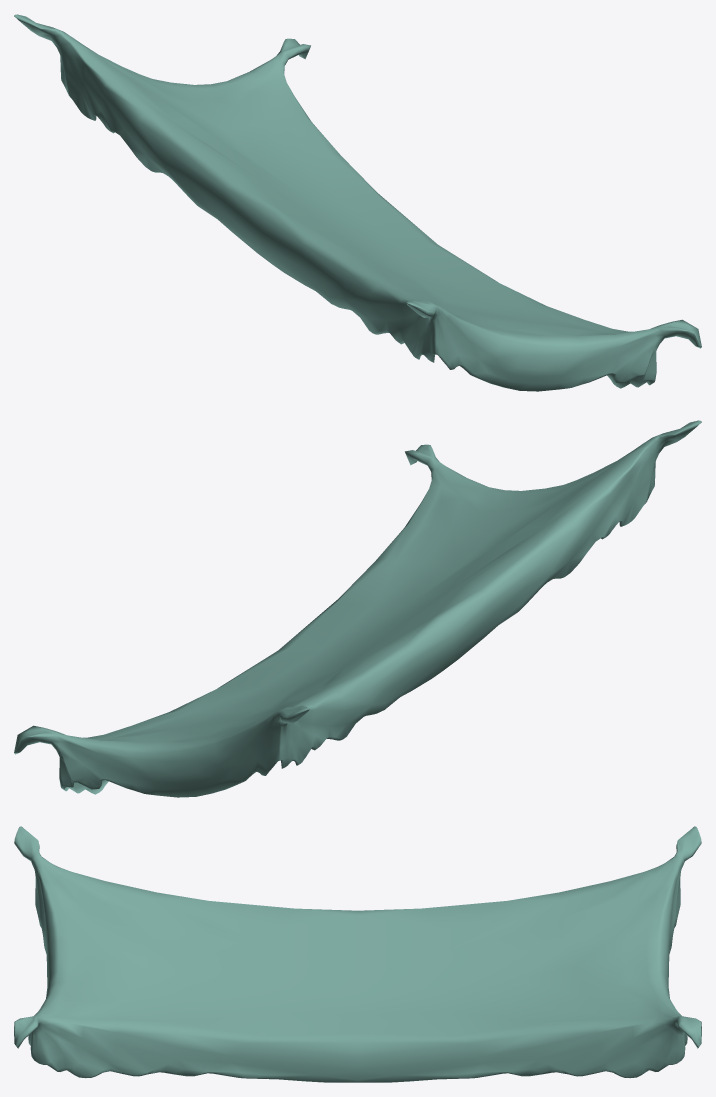
Rendered from desert_articles_zp_01.fbx.
3 renders of one model, top to bottom at view 1: azimuth 30°, elevation 25°; view 2: azimuth 150°, elevation 25°; view 3: azimuth 270°, elevation 25°, orthographic. The views are drawn at different scales.
Visible parts, largest first — view 1: desert_articles_zp_01; view 2: desert_articles_zp_01; view 3: desert_articles_zp_01.
Part boxes in pixels (x1,y1,x2,y2): desert_articles_zp_01: [14, 14, 701, 391]; desert_articles_zp_01: [14, 420, 701, 797]; desert_articles_zp_01: [14, 826, 701, 1082].
Bounding box in the file's own units: 761 × 459 × 1792.
